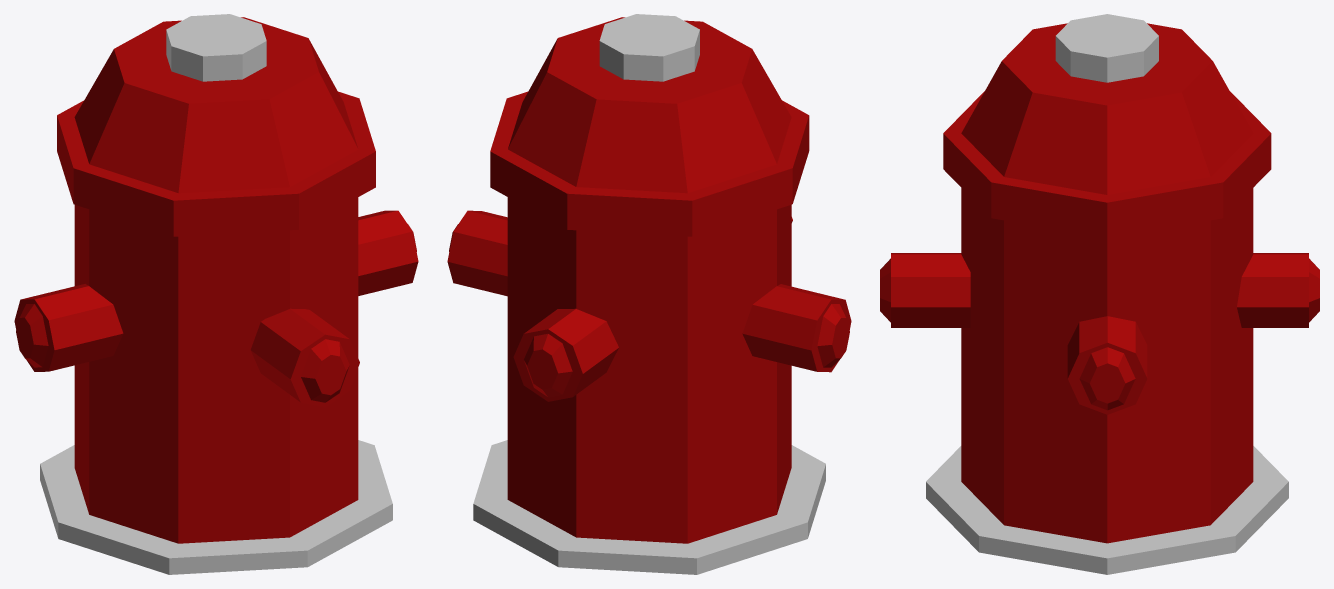
File: Hidrante.fbx
The picture shows the model from 3 angles, left to right: view 1: azimuth 30°, elevation 25°; view 2: azimuth 150°, elevation 25°; view 3: azimuth 270°, elevation 25°; orthographic projection.
Parts seen in each view (by area): view 1: Hidrante; view 2: Hidrante; view 3: Hidrante.
Boxes of the visible parts, x1,y1,x2,y2 form: Hidrante: (14, 14, 418, 574); Hidrante: (447, 14, 851, 574); Hidrante: (880, 14, 1319, 574).
Bounding box in the file's own units: 59.3 × 68.78 × 59.3.
